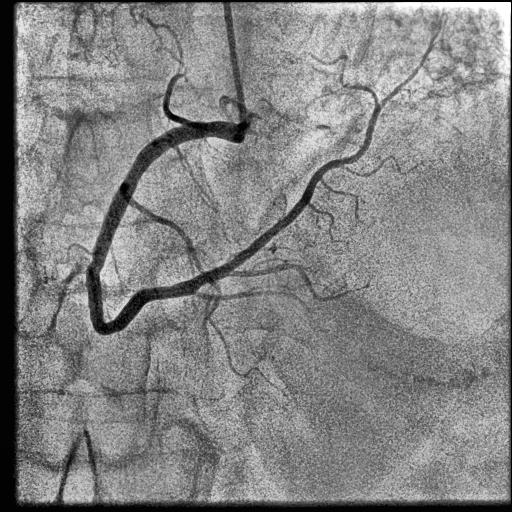pborca: (195, 108, 380, 293)
pda: (197, 291, 300, 303)
rca: (85, 121, 243, 336)
